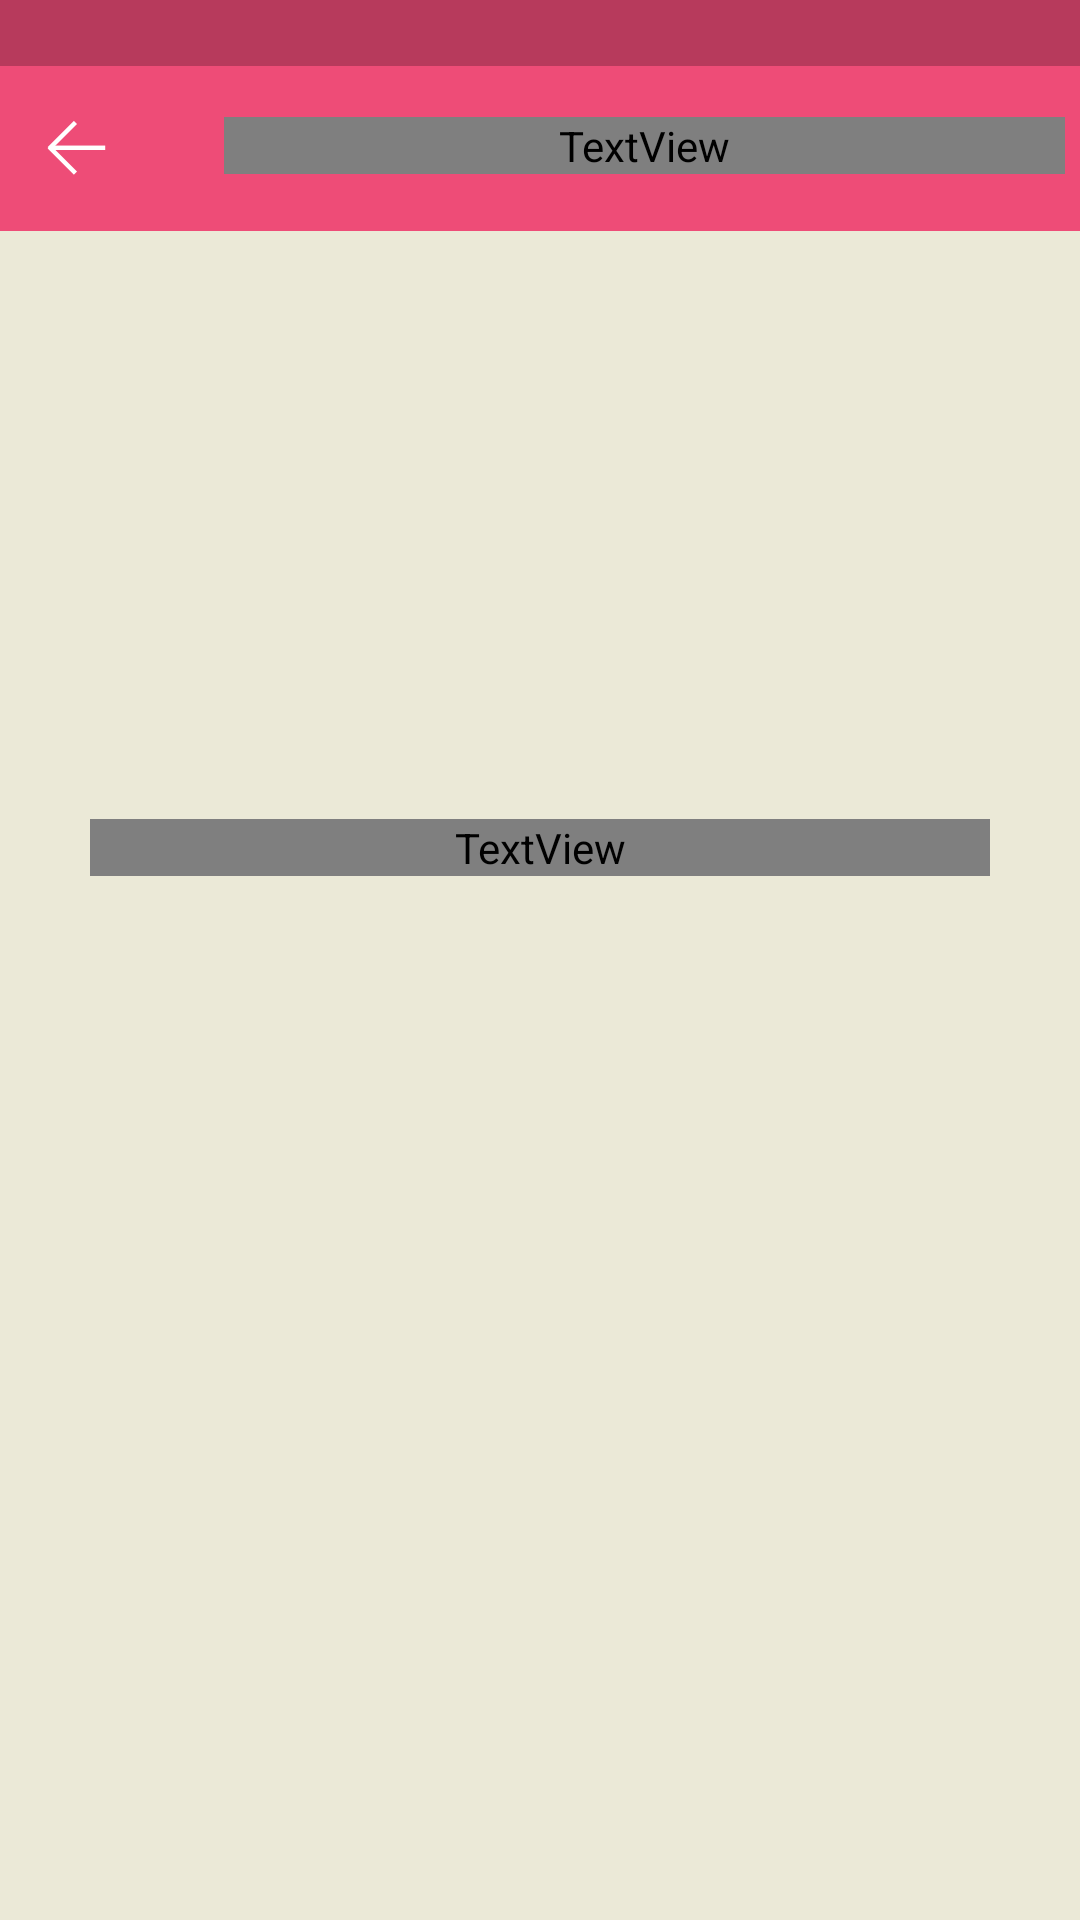

Icons on this 1080x1920 Android screen, each with its box as (left=x1, top=y1, right=x2, bottom=y2):
arrow back: (left=48, top=121, right=106, bottom=175)
